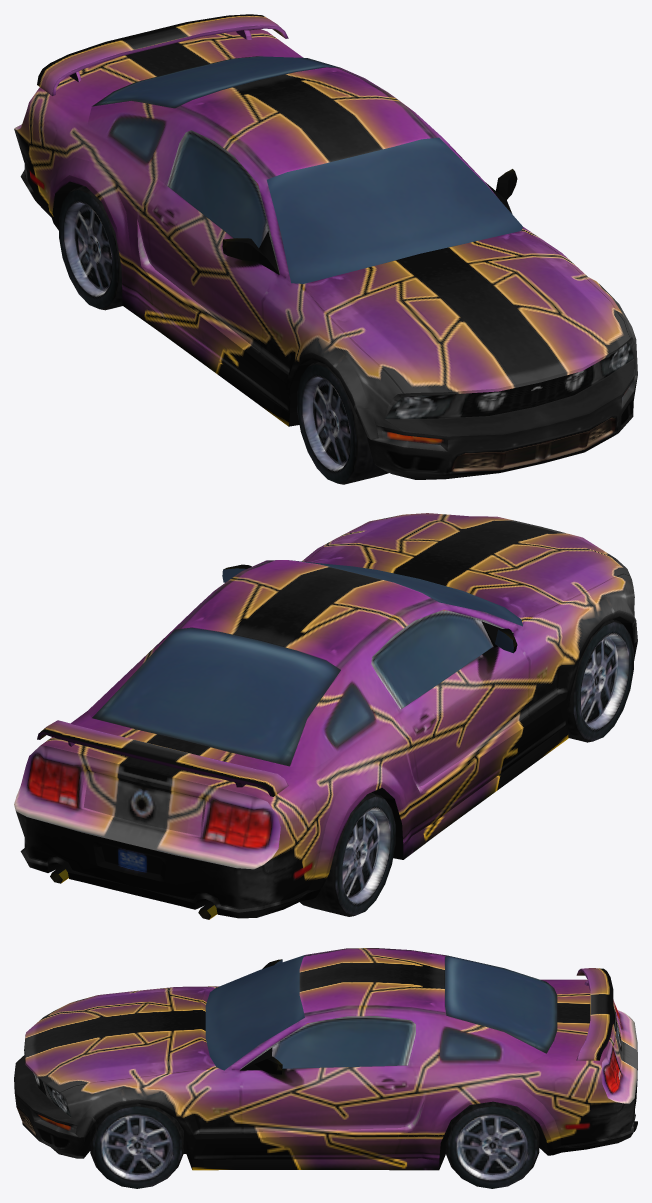
The model's file is Ford Mustang Purple.fbx.
3 views of the same model, one above another, from view 1: azimuth 30°, elevation 25°; view 2: azimuth 150°, elevation 25°; view 3: azimuth 270°, elevation 25° (orthographic). The views are drawn at different scales.
Visible parts, largest first — view 1: mustang, FR, RR; view 2: mustang, RR, FR; view 3: mustang, RL, FL.
Part boxes in pixels (left/top/right/bottom): mustang: left=14, top=14, right=637, bottom=479; FR: left=297, top=361, right=388, bottom=484; RR: left=59, top=186, right=122, bottom=310; mustang: left=14, top=513, right=637, bottom=919; RR: left=300, top=792, right=395, bottom=916; FR: left=567, top=619, right=633, bottom=742; mustang: left=14, top=948, right=637, bottom=1170; RL: left=445, top=1101, right=539, bottom=1188; FL: left=90, top=1103, right=183, bottom=1188.
Size of the model in its own units: 180 by 133 by 447.
10 materials, 10 textured.
